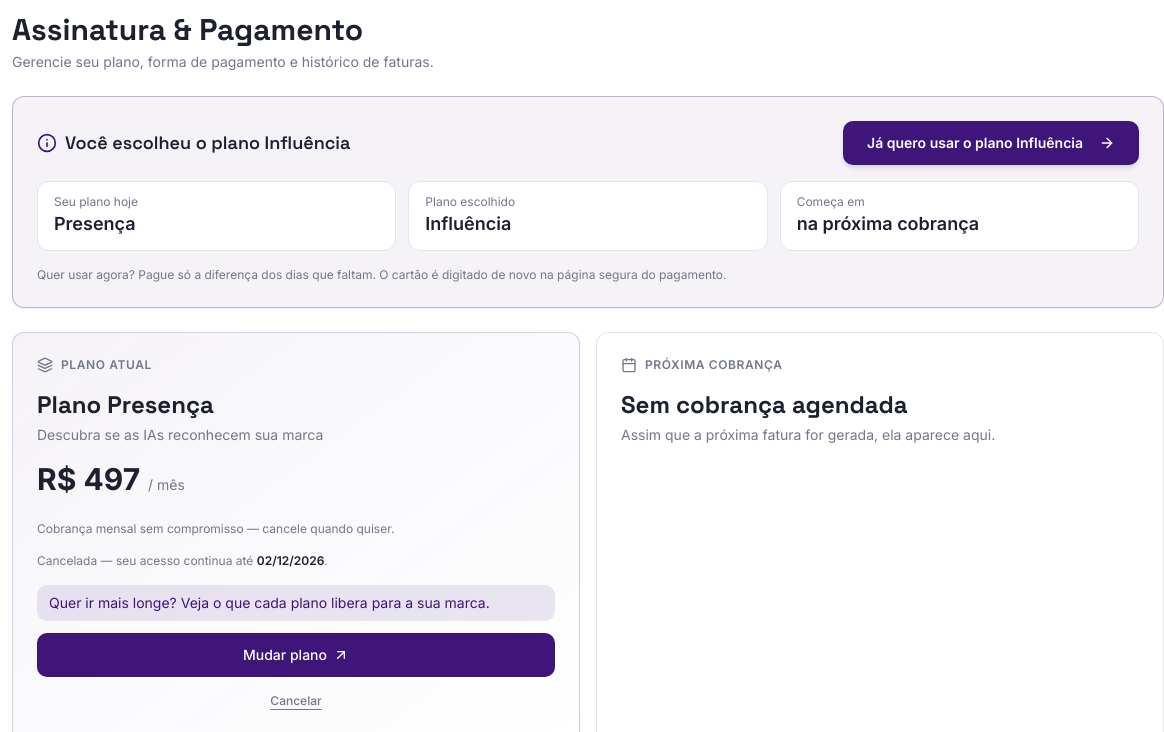
Test: P37 card 'Você escolheu o plano' › botão: spinner e travado até o pedido terminar; dois cliques = um pedido
Later steps or results of the test are not shown.
Step 1. Click the button "Já quero usar o plano Influência" → [991, 143], box [843,121,1139,165]
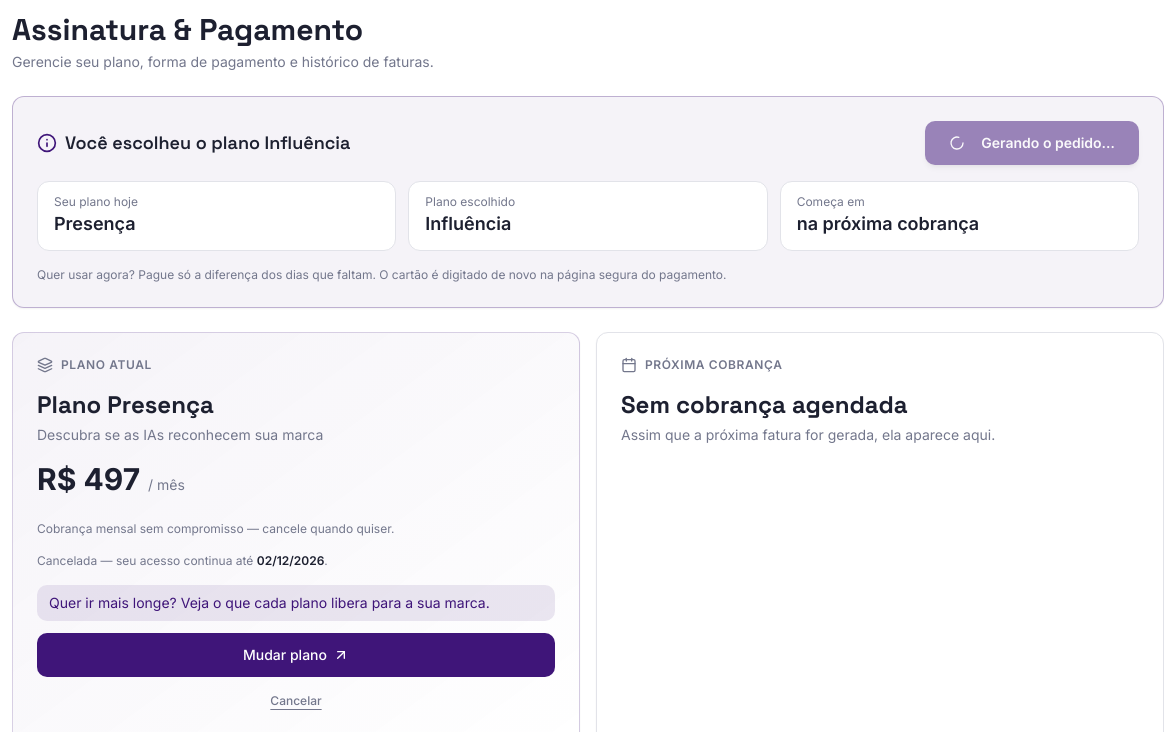
Step 2. Click the button named "Já quero usar o plano Influência" → [1032, 143], box [925,121,1139,165]
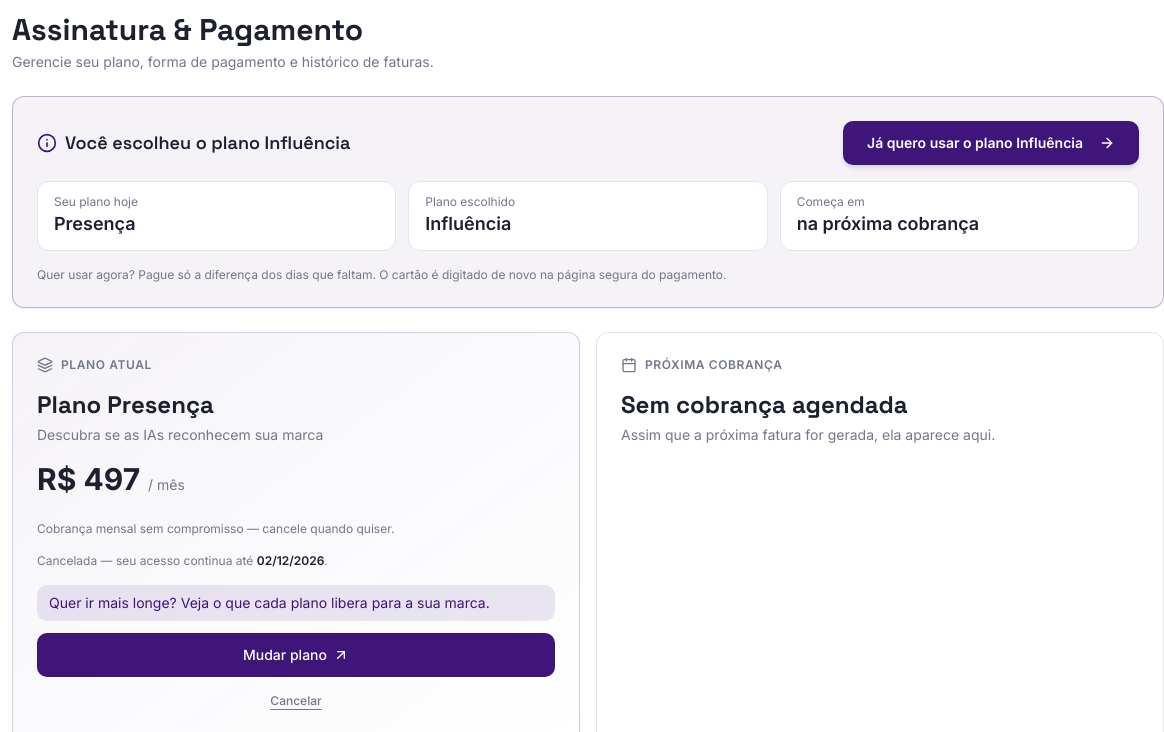
Now the button "Já quero usar o plano Influência" is enabled, box [843,121,1139,165]
